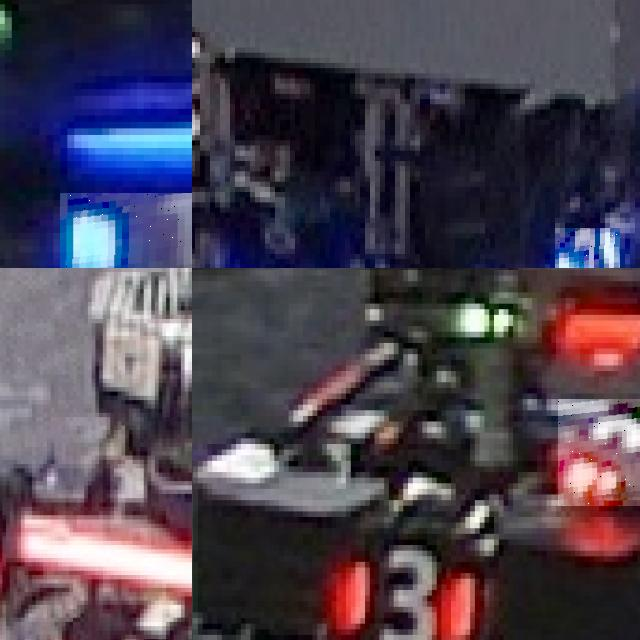B1: (60, 193, 192, 268)
B2: (555, 228, 620, 268)
R3: (314, 533, 477, 640), (558, 399, 640, 505)
